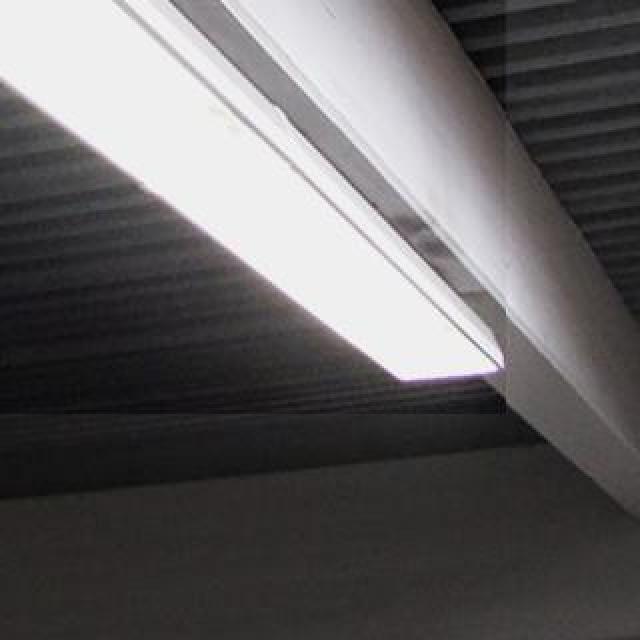fluorescent tube: (0, 0, 514, 414)
